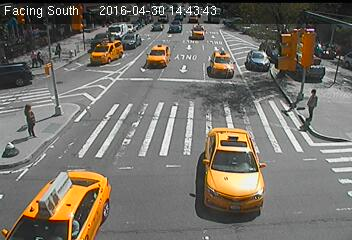neg: (86, 39, 119, 84), (153, 54, 175, 83), (314, 44, 335, 71), (132, 35, 150, 59), (161, 29, 179, 53), (282, 50, 296, 68), (244, 58, 257, 76), (208, 28, 221, 45)
pos: (297, 86, 328, 127), (13, 104, 40, 139), (52, 40, 67, 60), (21, 49, 36, 68), (34, 49, 48, 67)
